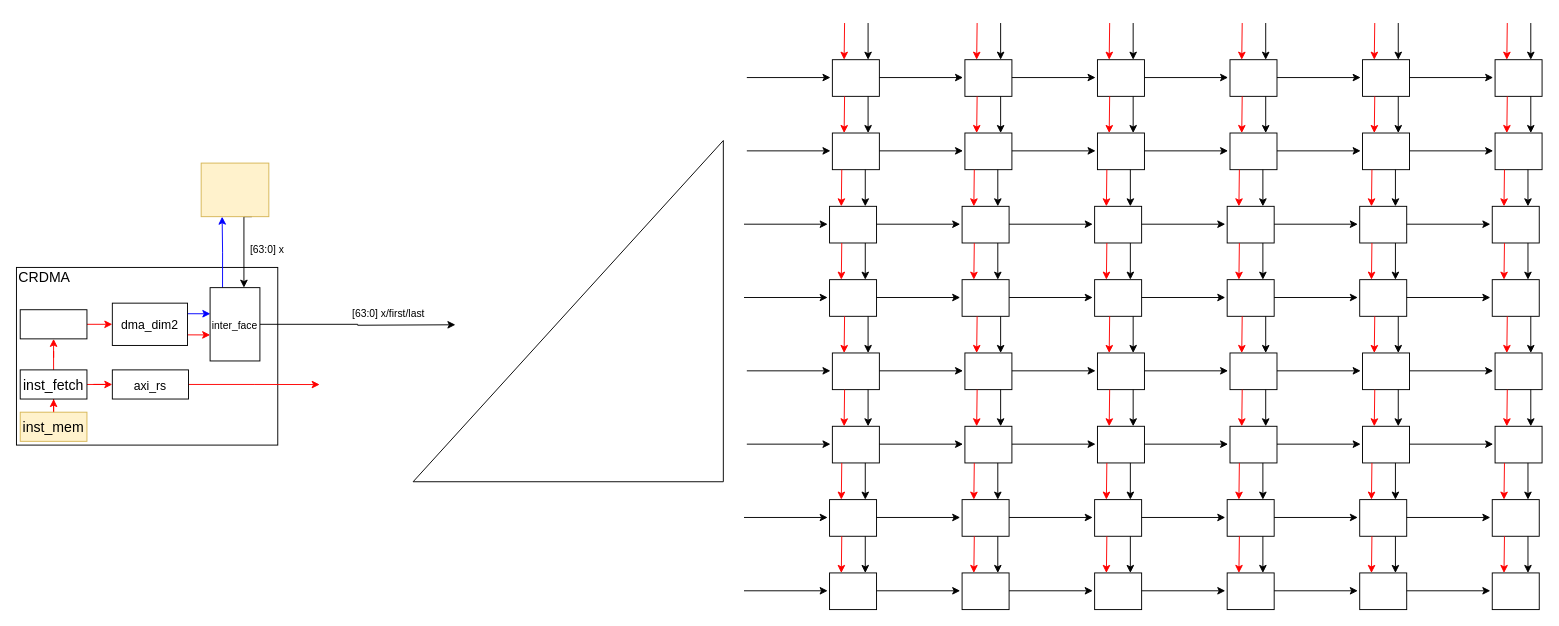
Image size: 1559x626. Some labels were removed from this diagram. Each missing label, with the centre of its shape:
"delaychain" goes at [567,311].
"ifm" goes at [234,189].
"inst_parse" goes at [53,324].
